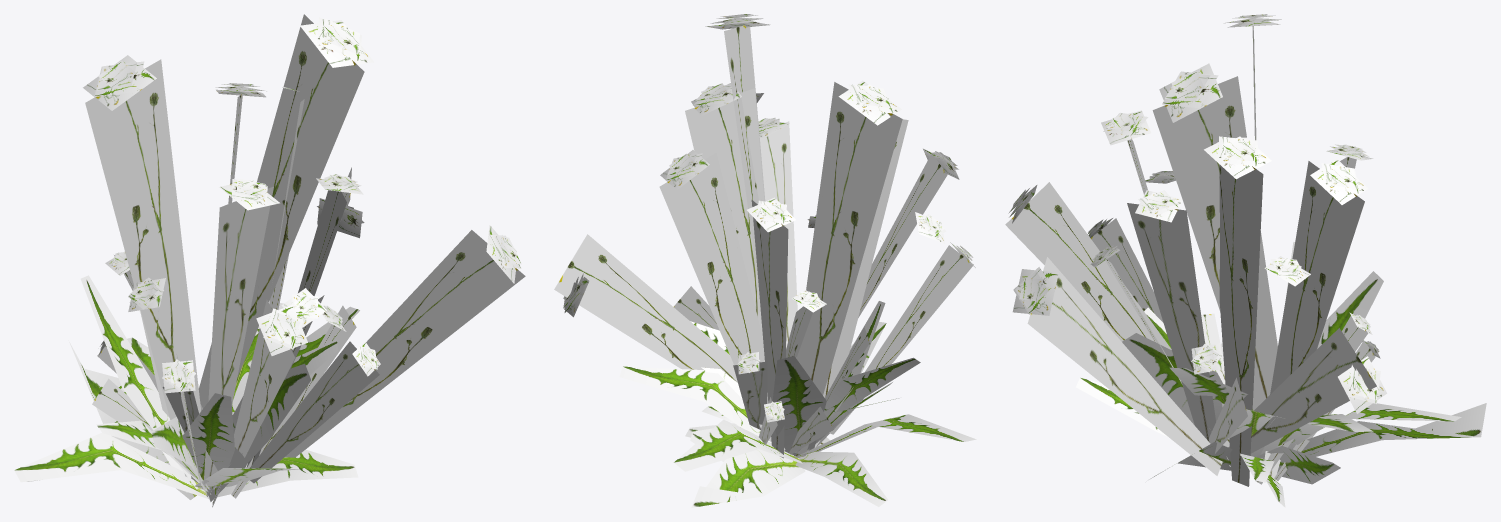
File: 05_crepis_capillaris_low_001.fbx
3 views of the same model, side by side, from view 1: azimuth 30°, elevation 25°; view 2: azimuth 150°, elevation 25°; view 3: azimuth 270°, elevation 25° (orthographic). The views are drawn at different scales.
Parts seen in each view (by area): view 1: 05_crepis_capillaris_low.001; view 2: 05_crepis_capillaris_low.001; view 3: 05_crepis_capillaris_low.001.
Boxes of the visible parts, x1,y1,x2,y2 form: 05_crepis_capillaris_low.001: [14, 14, 525, 507]; 05_crepis_capillaris_low.001: [554, 14, 976, 507]; 05_crepis_capillaris_low.001: [1005, 14, 1486, 507].
Size of the model in its own units: 0.2387 by 0.2662 by 0.2597.
